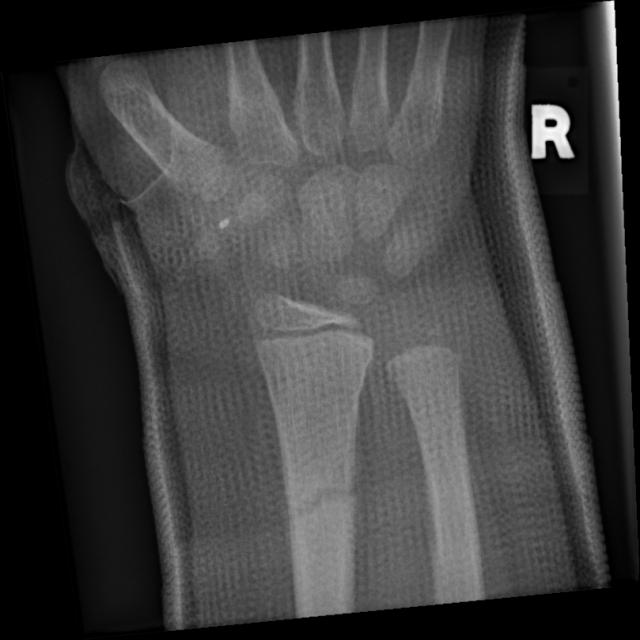radius fracture: (272, 431, 372, 584)
